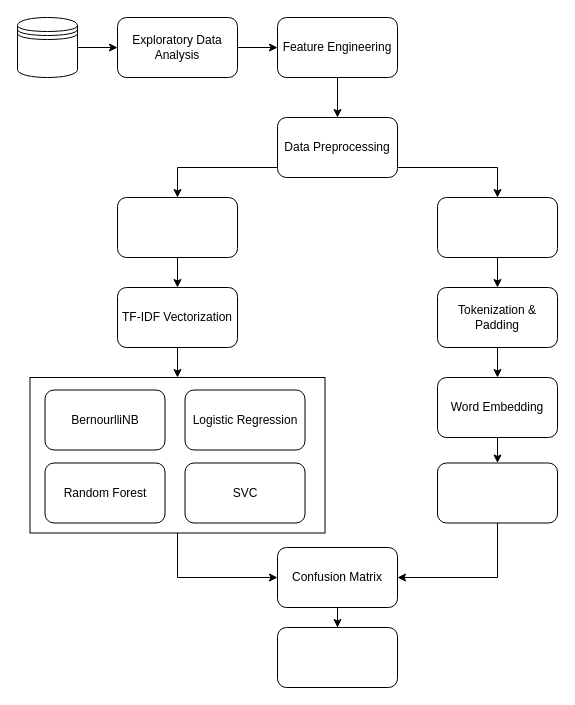
Some shapes in this 575 by 705 pixel diagram are drawn without their labels. Here are the shapes that lost their labels. From the top down, the box of each, then its label:
(16, 16, 78, 78): Raw Data
(116, 196, 238, 258): Train Test Split
(436, 196, 558, 258): Train Test Val Split
(436, 462, 558, 523): LSTM
(276, 626, 398, 688): Choose the best algorithm
